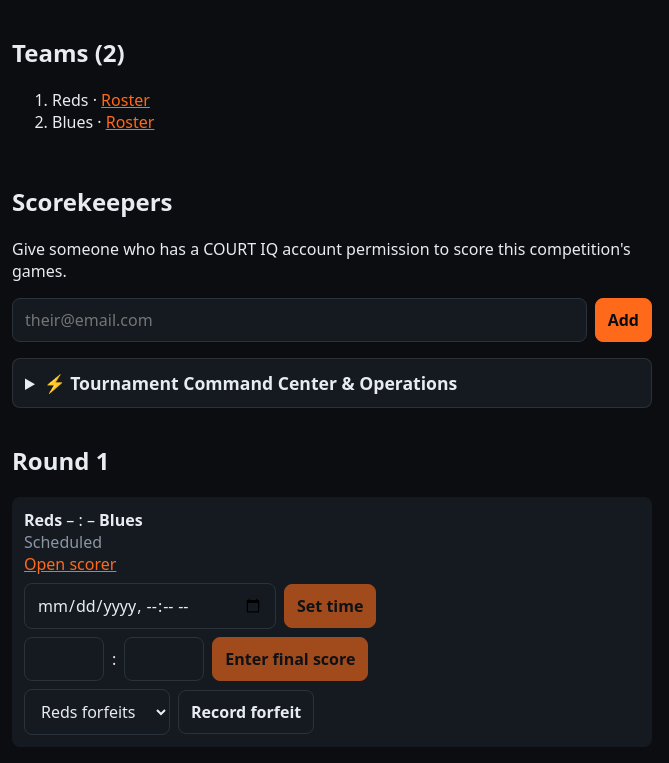
Test: CompetitionPanel match administration › records a forfeit after confirming, sending the opposite team as winner
The image size is (669, 763).
(page scrolled)
Select "Reds forfeits" in the dropdown named "Team that forfeits" at (97, 712), box [24,689,170,735]
Click the button "Record forfeit" at (246, 712), box [178,690,314,734]
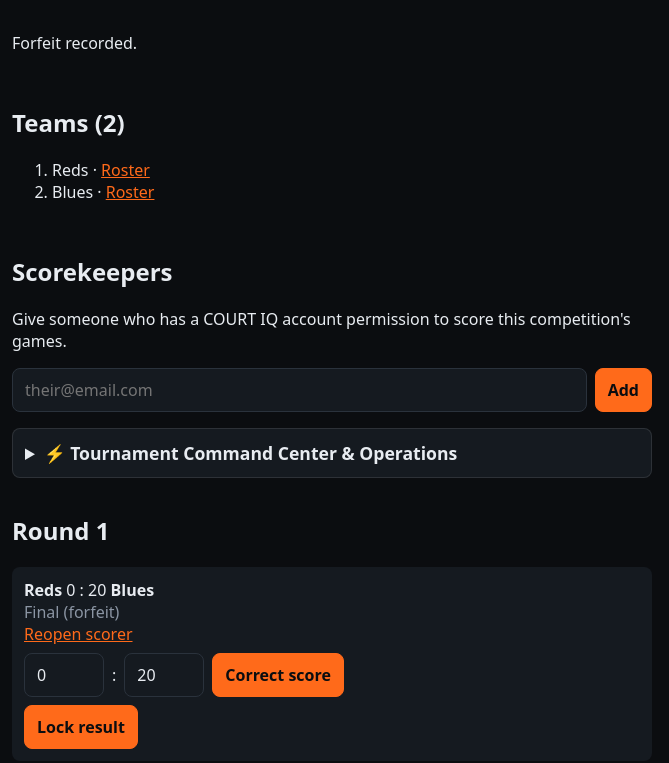
Expected: the text "Final (forfeit)" is shown, [24,601,119,623]
